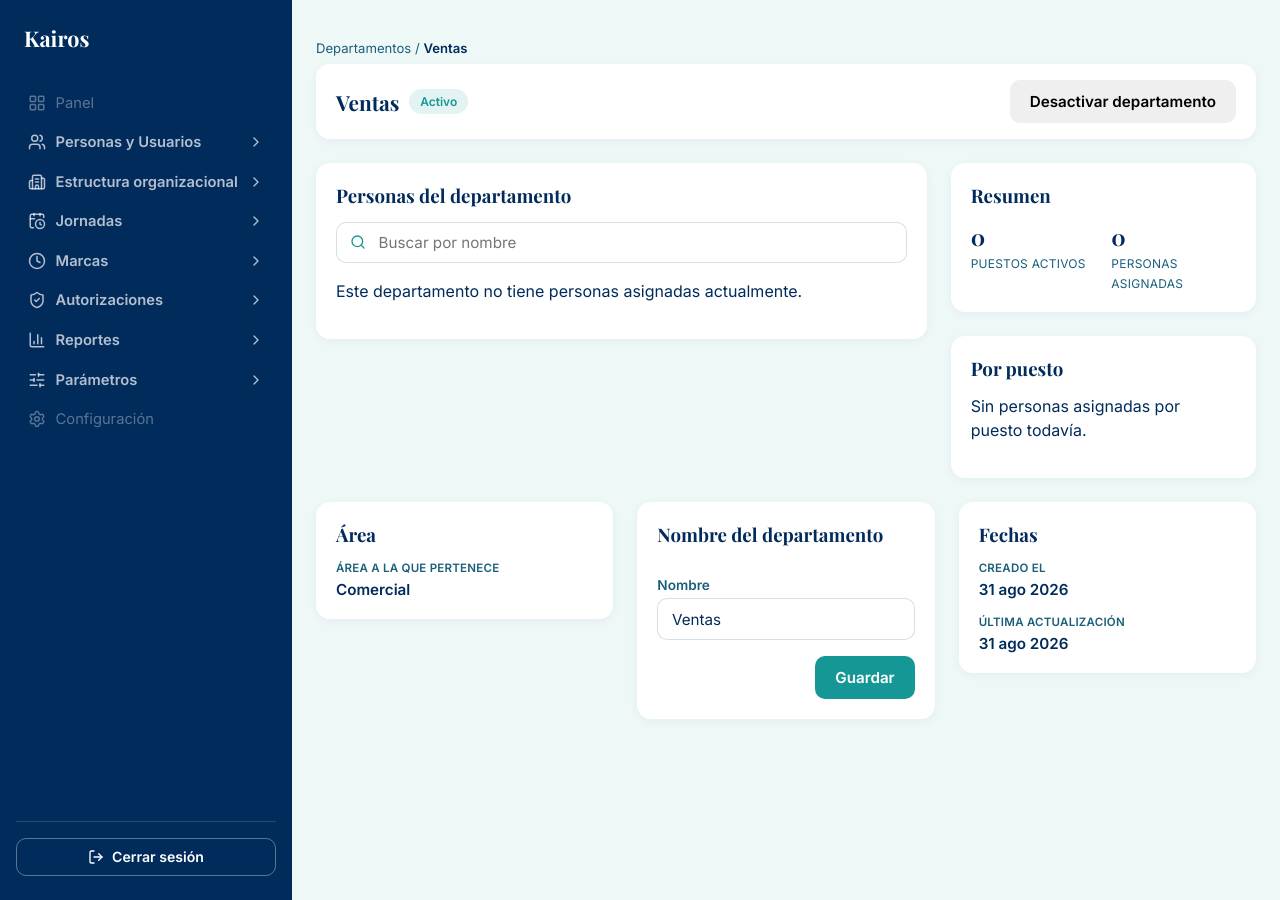
Test: FichaDepartamentoPage › renombra el departamento vía PATCH /api/departamentos/:id
Check: the text "Ventas" next to "Departamentos" is shown, box [423,40,467,56]
Replace the text in the field labelled "Nombre" with "Ventas Nacionales" at coordinates (786, 619), box [657,598,915,640]
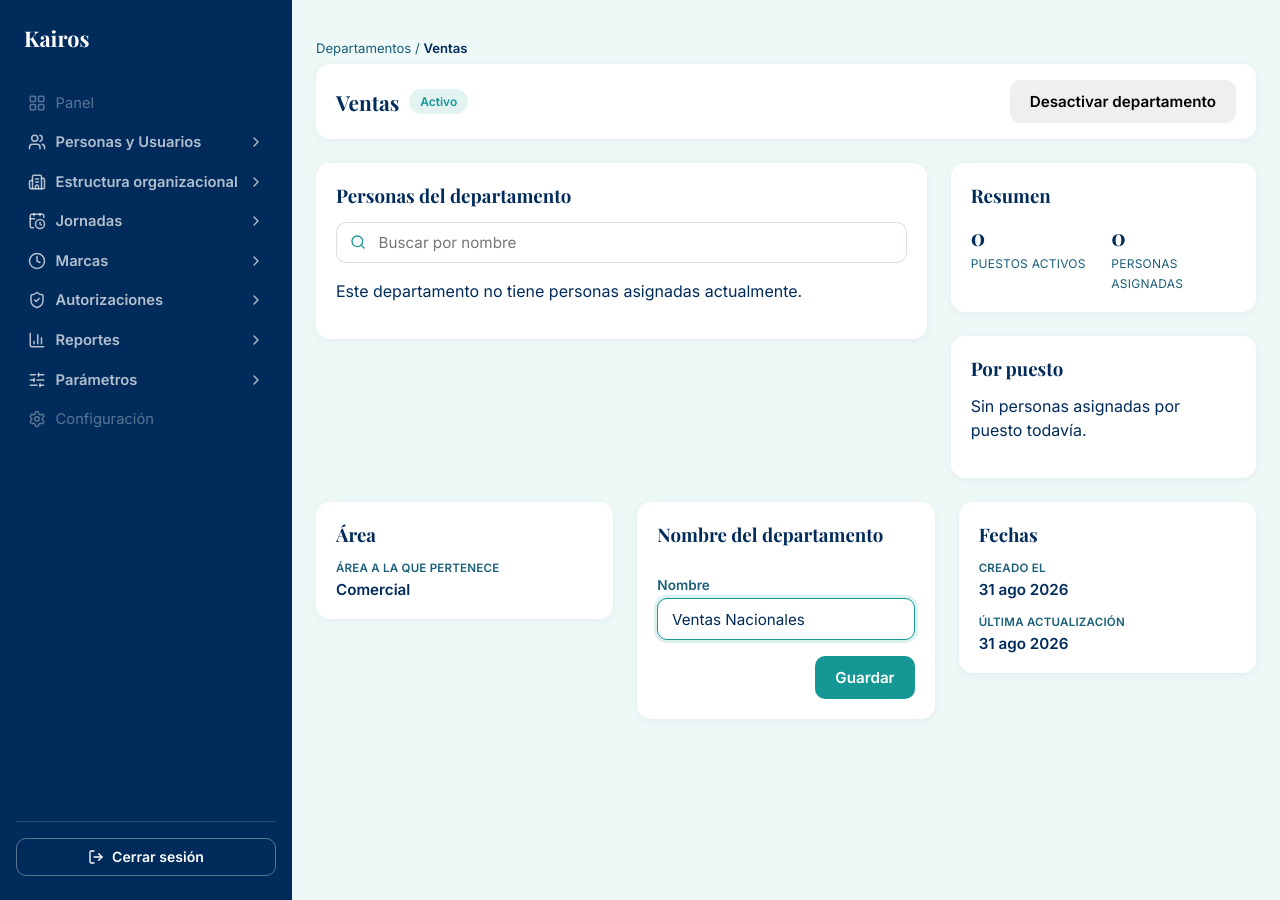
Click the button "Guardar".
click(865, 678)  # box [815,656,915,699]
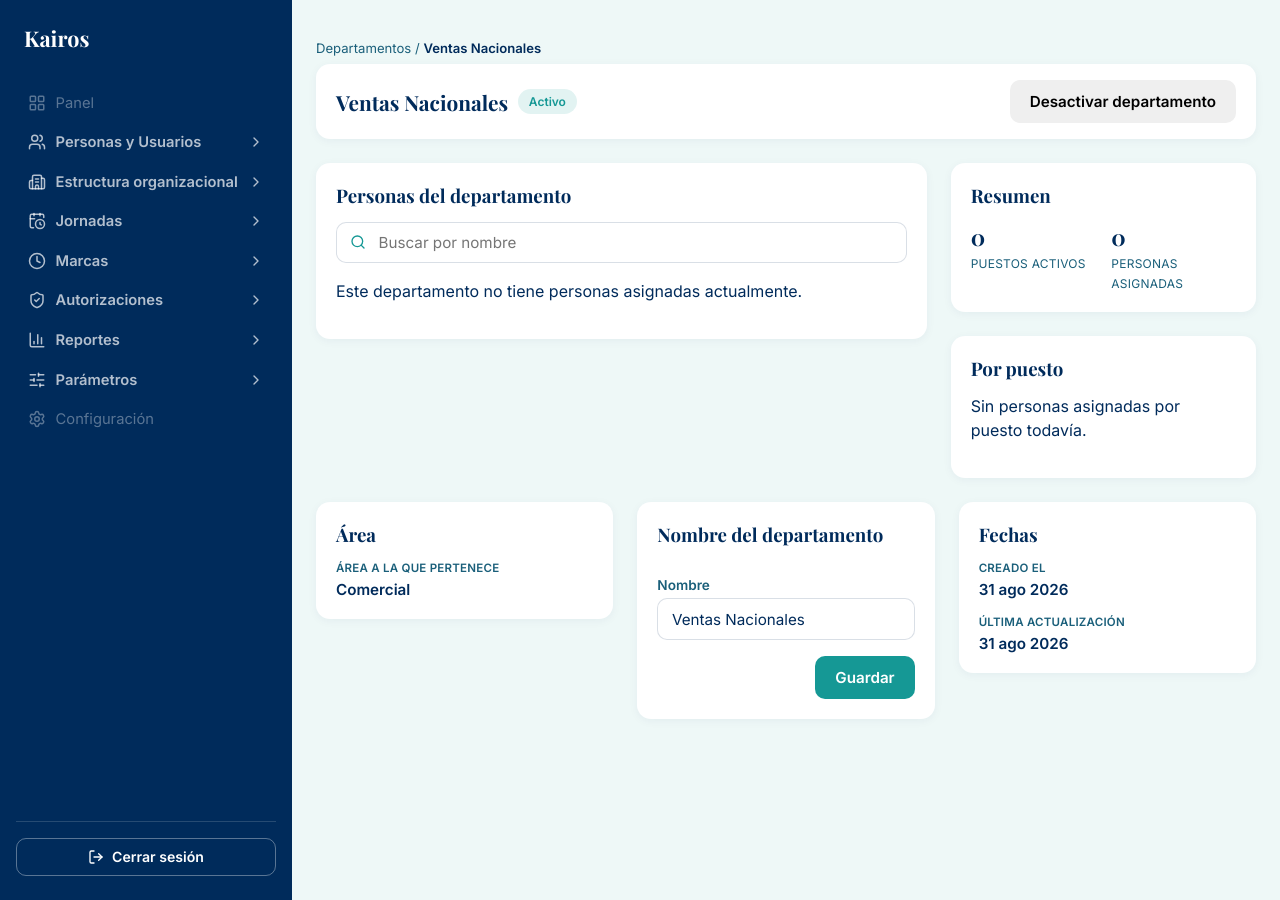
Check: the text "Ventas Nacionales" next to "Departamentos" is shown, box [423,40,541,56]
